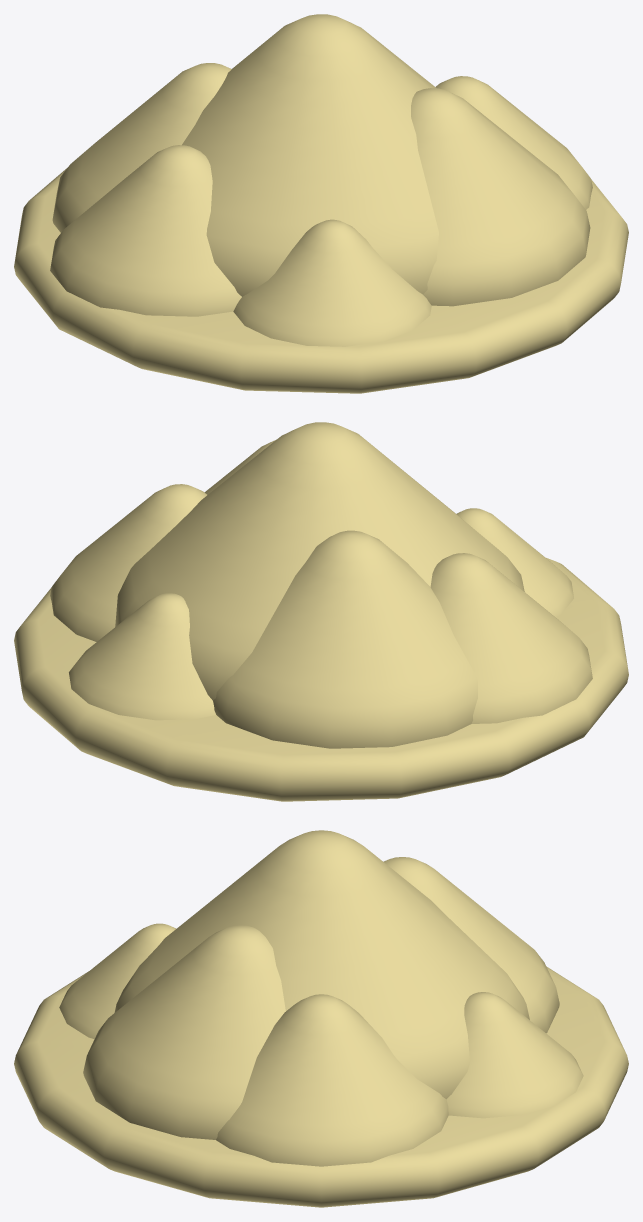
File: LastLuna_Model_Node_Sand.fbx
3 views of the same model, one above another, from view 1: azimuth 30°, elevation 25°; view 2: azimuth 150°, elevation 25°; view 3: azimuth 270°, elevation 25° (orthographic).
Parts seen in each view (by area): view 1: DirtPile001, SandFloor001, Dirt_Floor004, Dirt_Floor001, Dirt_Floor006, Dirt_Floor003, Dirt_Floor002; view 2: DirtPile001, SandFloor001, Dirt_Floor003, Dirt_Floor001, Dirt_Floor005, Dirt_Floor002, Dirt_Floor006; view 3: DirtPile001, SandFloor001, Dirt_Floor004, Dirt_Floor002, Dirt_Floor005, Dirt_Floor003, Dirt_Floor006.
Part boxes in pixels (left/top/right/bottom): DirtPile001: left=182, top=14, right=438, bottom=296; SandFloor001: left=14, top=167, right=628, bottom=393; Dirt_Floor004: left=411, top=88, right=590, bottom=306; Dirt_Floor001: left=50, top=145, right=241, bottom=316; Dirt_Floor006: left=233, top=219, right=431, bottom=346; Dirt_Floor003: left=52, top=63, right=231, bottom=232; Dirt_Floor002: left=436, top=76, right=592, bottom=209; DirtPile001: left=115, top=422, right=524, bottom=700; SandFloor001: left=14, top=558, right=628, bottom=801; Dirt_Floor003: left=213, top=530, right=477, bottom=748; Dirt_Floor001: left=430, top=553, right=592, bottom=723; Dirt_Floor005: left=69, top=593, right=215, bottom=720; Dirt_Floor002: left=50, top=484, right=206, bottom=641; Dirt_Floor006: left=456, top=508, right=573, bottom=616; DirtPile001: left=114, top=830, right=529, bottom=1099; SandFloor001: left=14, top=966, right=628, bottom=1207; Dirt_Floor004: left=83, top=925, right=285, bottom=1139; Dirt_Floor002: left=216, top=994, right=448, bottom=1166; Dirt_Floor005: left=446, top=992, right=583, bottom=1118; Dirt_Floor003: left=383, top=857, right=559, bottom=1033; Dirt_Floor006: left=59, top=923, right=176, bottom=1038.
Bounding box in the file's own units: 37.4 × 16.74 × 37.4.
